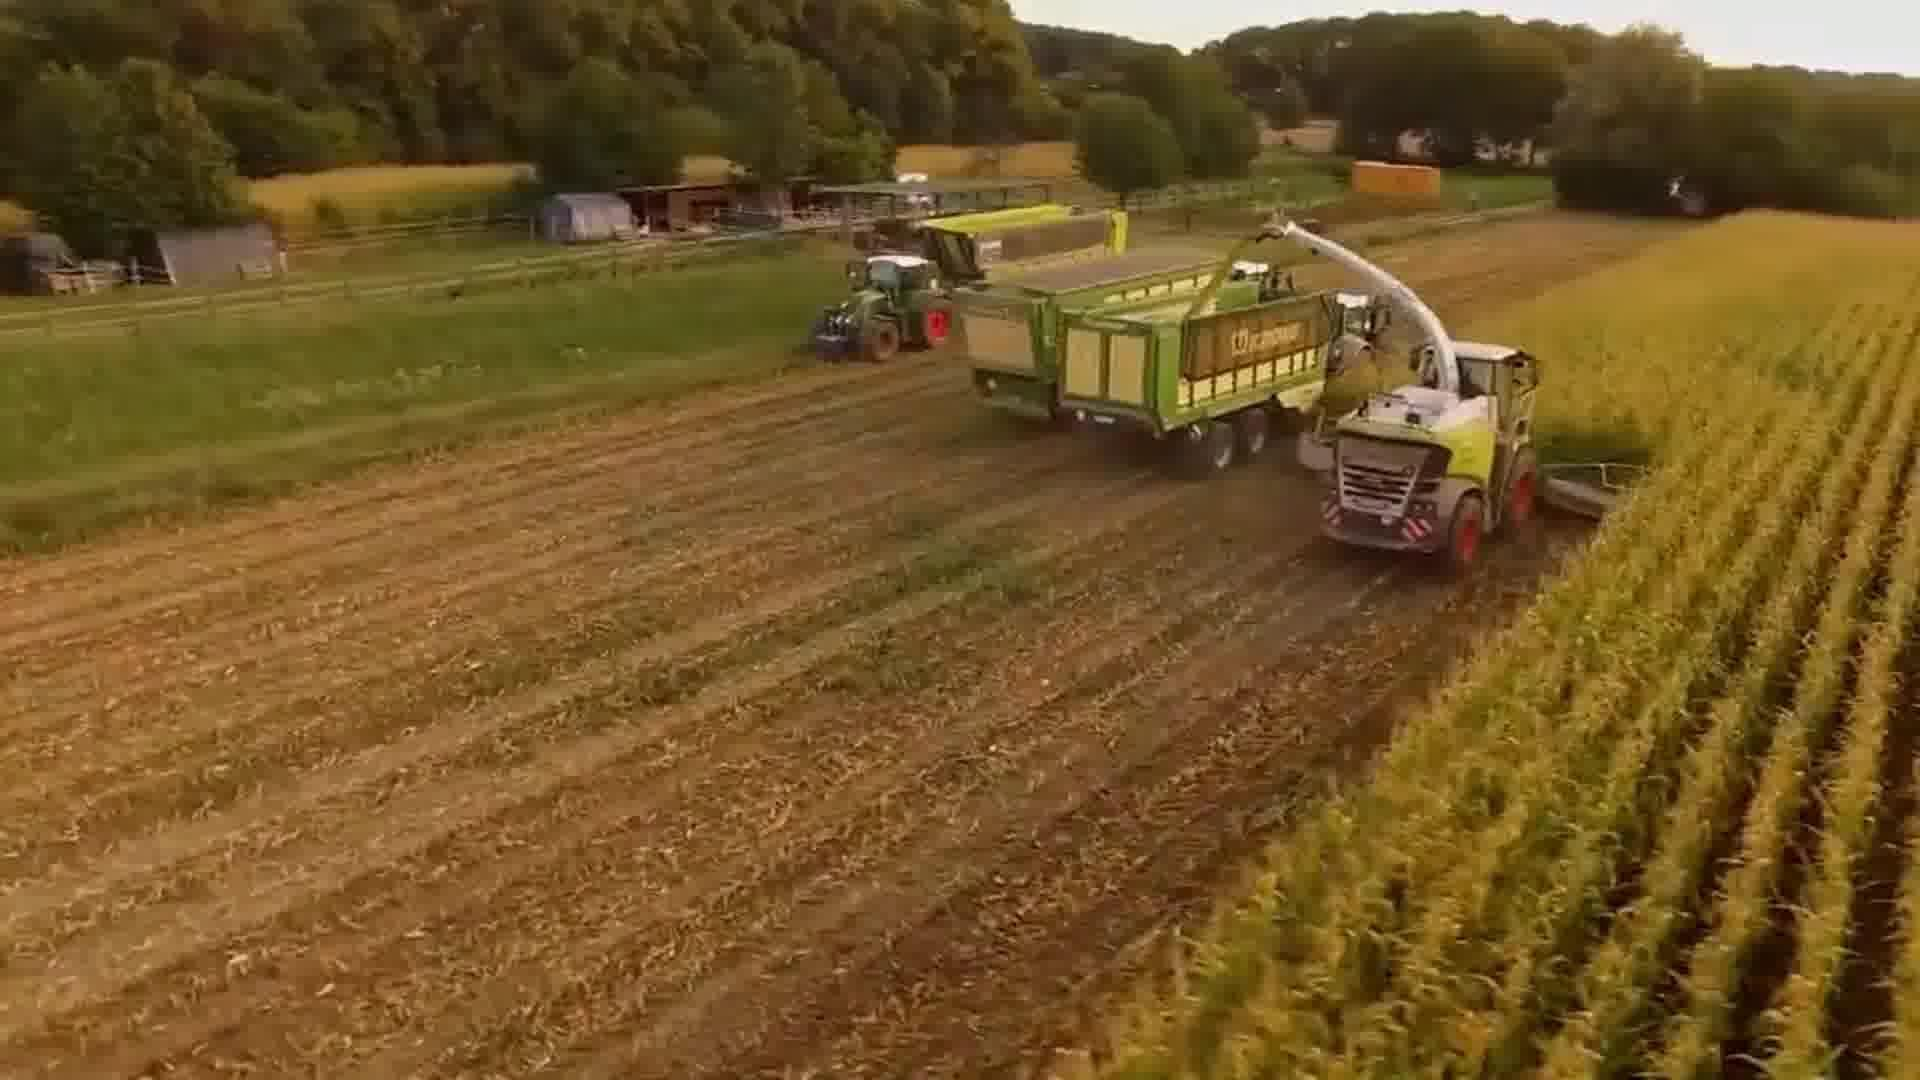combine harvester: (1247, 207, 1654, 580)
tractor: (823, 243, 949, 367), (1324, 282, 1391, 388), (1236, 247, 1284, 295)
trailer: (1056, 277, 1341, 468), (947, 240, 1232, 417), (906, 202, 1135, 286)
